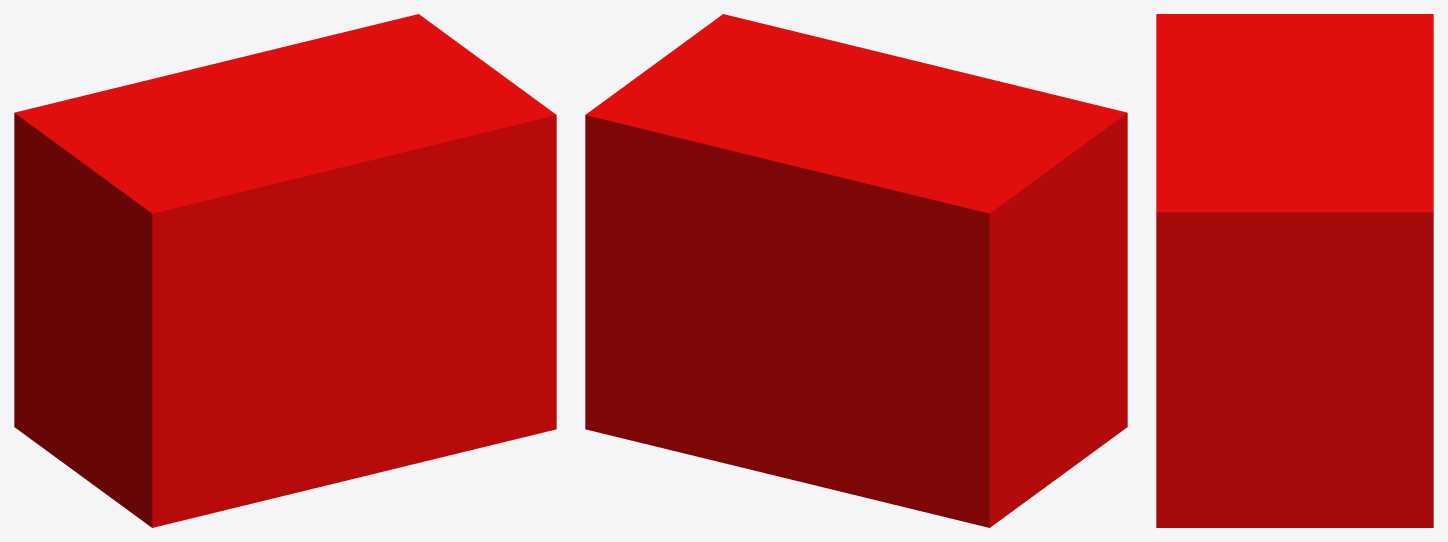
File: talus_rv_col.dae
The picture shows the model from 3 angles, left to right: view 1: azimuth 30°, elevation 25°; view 2: azimuth 150°, elevation 25°; view 3: azimuth 270°, elevation 25°; orthographic projection.
Parts seen in each view (by area): view 1: node0; view 2: node0; view 3: node0.
Boxes of the visible parts, box(x1,y1,x2,y2) form: node0: box(14, 14, 556, 527); node0: box(585, 14, 1127, 527); node0: box(1156, 14, 1433, 527).
Bounding box in the file's own units: 0.043 × 0.0319 × 0.0254.
